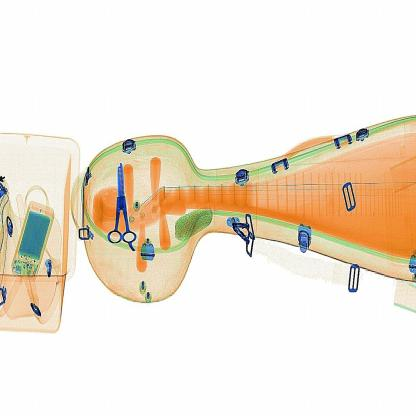gun: (101, 161, 144, 259)
